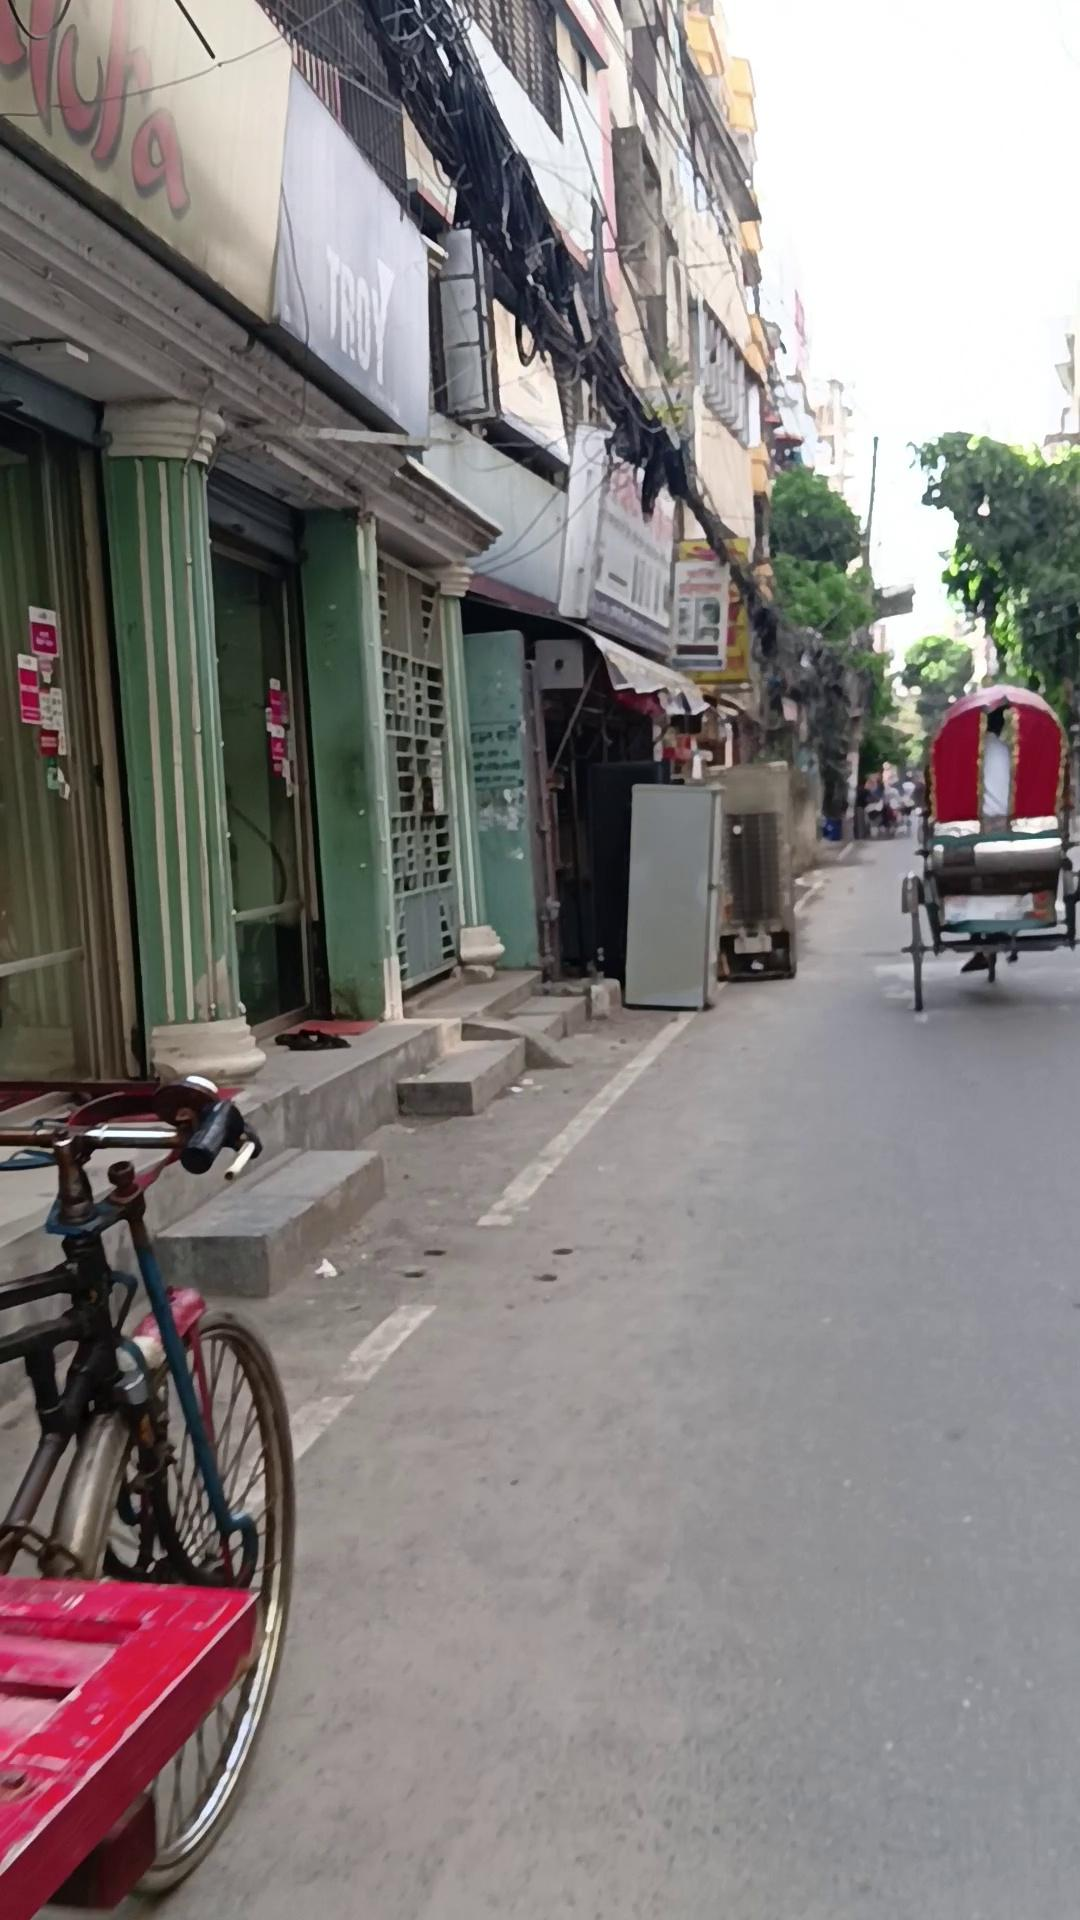Broken-road: (146, 1143, 386, 1298), (222, 1014, 458, 1164), (394, 1035, 526, 1116), (402, 964, 542, 1021), (460, 1015, 571, 1068), (505, 992, 589, 1038)
Cat: (822, 815, 840, 841)
Dog: (98, 396, 266, 1085)
Fence: (0, 1077, 297, 1920), (898, 682, 1076, 1011)
Light-pole: (903, 427, 1077, 849), (748, 458, 907, 837)
Obstacle: (1, 390, 141, 1091)
